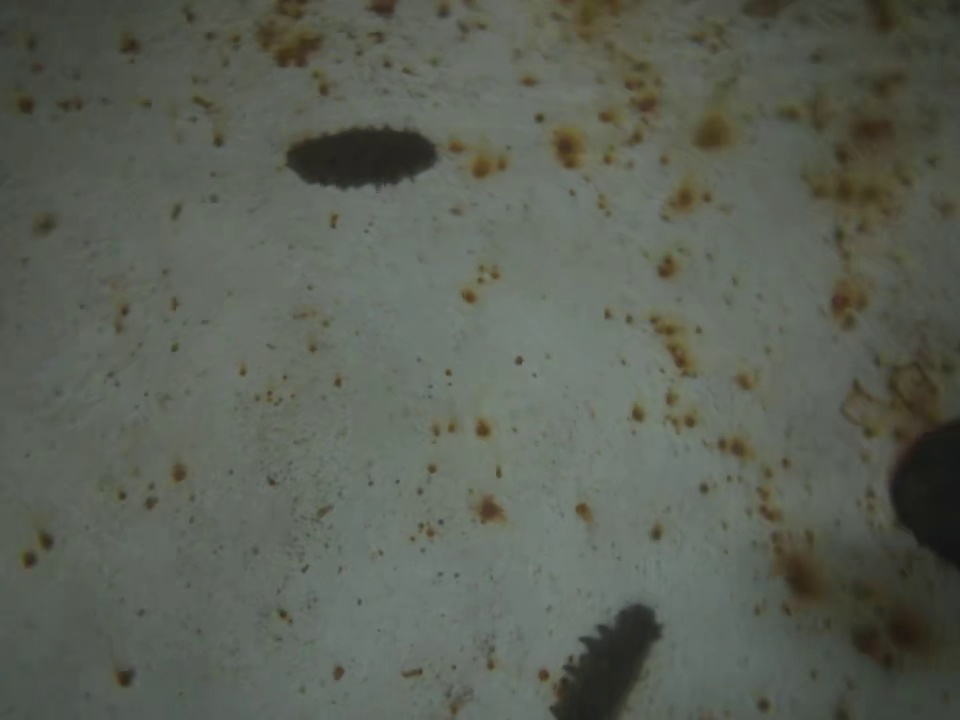seacucumber: (550, 600, 666, 720), (284, 121, 446, 190)
